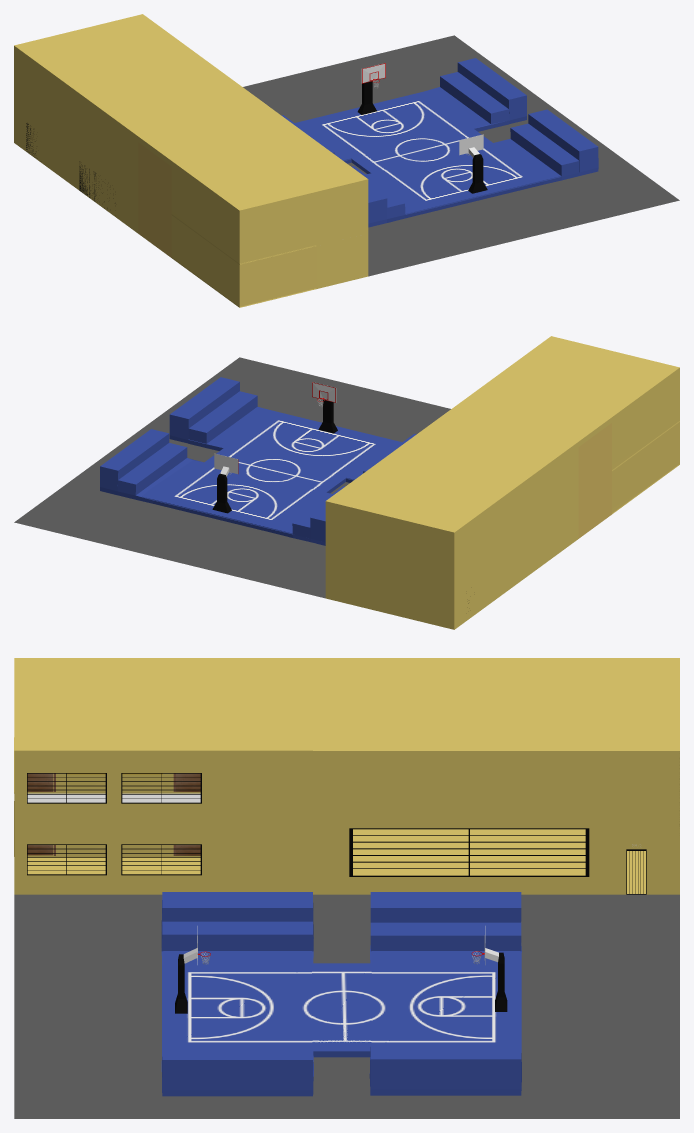
Rendered from School.fbx.
The picture shows the model from 3 angles, top to bottom: view 1: azimuth 30°, elevation 25°; view 2: azimuth 150°, elevation 25°; view 3: azimuth 270°, elevation 25°; orthographic projection. The views are drawn at different scales.
Parts seen in each view (by area): view 1: Plane.002, Plane.006, Plane.005, Cube.004, Roomwall.001, Roomwall, Object, Basketball Base.001, Basketball Base; view 2: Plane.002, Plane.006, Plane.005, Cube.004, Roomwall.001, Object, Roomwall, Basketball Base, Basketball Base.001; view 3: Plane.002, Plane.005, Plane.006, Cube.004, Rail.005, Roomwall.001, Plane.003, Roomwall, Rail.002, Rail.003, Rail.001, Rail (+2 smaller).
Part boxes in pixels (<box>): Plane.002: <box>14,14,368,288</box>; Plane.006: <box>281,58,598,227</box>; Plane.005: <box>243,35,679,276</box>; Cube.004: <box>138,105,368,216</box>; Roomwall.001: <box>171,167,316,264</box>; Roomwall: <box>171,215,316,307</box>; Object: <box>138,142,171,257</box>; Basketball Base.001: <box>459,134,487,193</box>; Basketball Base: <box>357,63,385,114</box>; Plane.002: <box>325,410,578,629</box>; Plane.006: <box>100,377,416,545</box>; Plane.005: <box>14,357,450,598</box>; Cube.004: <box>450,336,679,446</box>; Roomwall.001: <box>612,373,679,470</box>; Object: <box>578,423,611,538</box>; Roomwall: <box>612,422,679,514</box>; Basketball Base: <box>212,453,238,513</box>; Basketball Base.001: <box>312,382,337,433</box>; Plane.002: <box>14,658,679,894</box>; Plane.005: <box>14,894,679,1118</box>; Plane.006: <box>161,892,521,1096</box>; Cube.004: <box>14,658,312,758</box>; Rail.005: <box>349,828,589,876</box>; Roomwall.001: <box>27,773,200,793</box>; Plane.003: <box>27,793,200,802</box>; Roomwall: <box>14,801,200,856</box>; Rail.002: <box>121,773,201,803</box>; Rail.003: <box>27,773,106,803</box>; Rail.001: <box>121,844,201,875</box>; Rail: <box>27,844,106,875</box>.
Size of what is drawn, in the model's own units: 16461 by 3502 by 14607.
